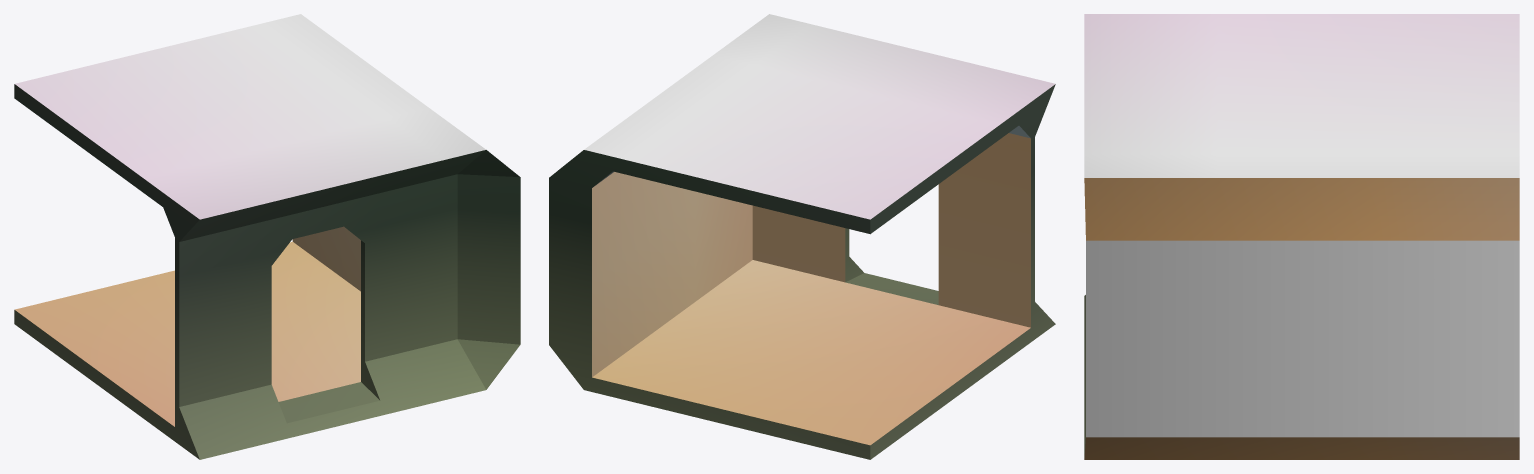
Rendered from R_OutWall_CornerDoor_R.fbx.
3 views of the same model, side by side, from view 1: azimuth 30°, elevation 25°; view 2: azimuth 150°, elevation 25°; view 3: azimuth 270°, elevation 25° (orthographic). The views are drawn at different scales.
Visible parts, largest first — view 1: R_OutWall_CornerDoor_R; view 2: R_OutWall_CornerDoor_R; view 3: R_OutWall_CornerDoor_R.
Boxes of the visible parts, x1,y1,x2,y2 form: R_OutWall_CornerDoor_R: [14, 14, 520, 459]; R_OutWall_CornerDoor_R: [549, 14, 1055, 459]; R_OutWall_CornerDoor_R: [1084, 14, 1519, 459].
Size of the model in its own units: 4.62 by 4.62 by 3.3.
